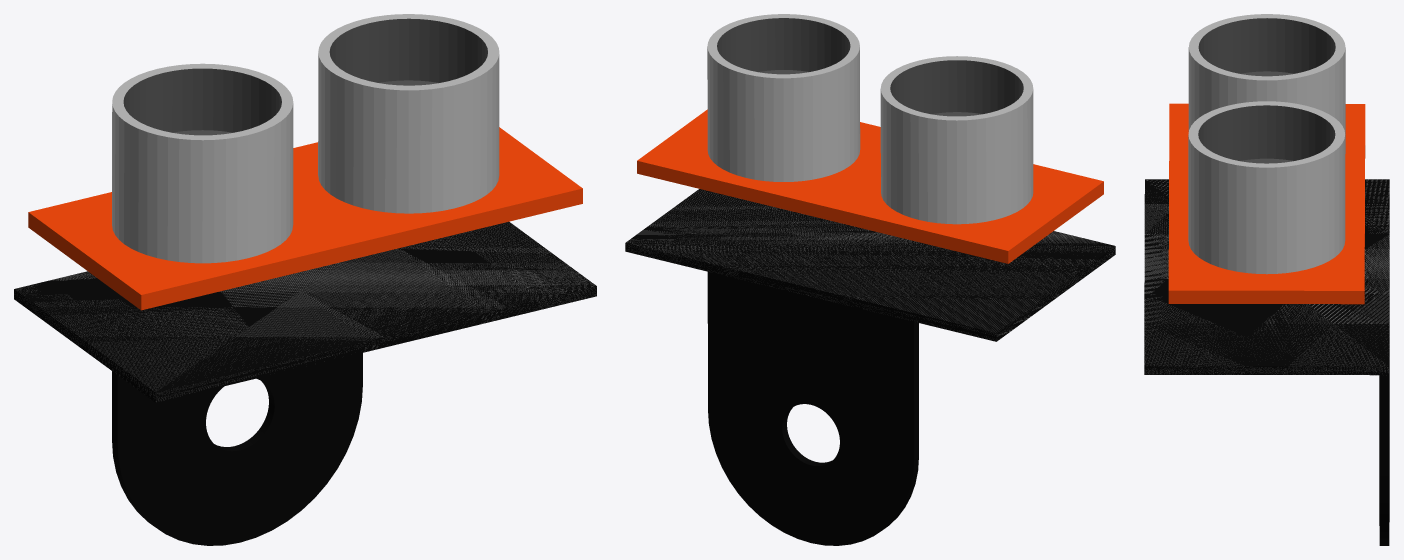
Rendered from ultrasonic_sensor_with_mount.dae.
The picture shows the model from 3 angles, left to right: view 1: azimuth 30°, elevation 25°; view 2: azimuth 150°, elevation 25°; view 3: azimuth 270°, elevation 25°; orthographic projection. The views are drawn at different scales.
Parts seen in each view (by area): view 1: skpec10 (×7); view 2: skpec10 (×7); view 3: skpec10 (×7).
Part boxes in pixels (left/top/right/bottom): skpec10 (×7): left=14, top=14, right=596, bottom=545; skpec10 (×7): left=625, top=14, right=1115, bottom=545; skpec10 (×7): left=1144, top=14, right=1389, bottom=545.
Bounding box in the file's own units: 1.77 × 0.9871 × 1.97.
